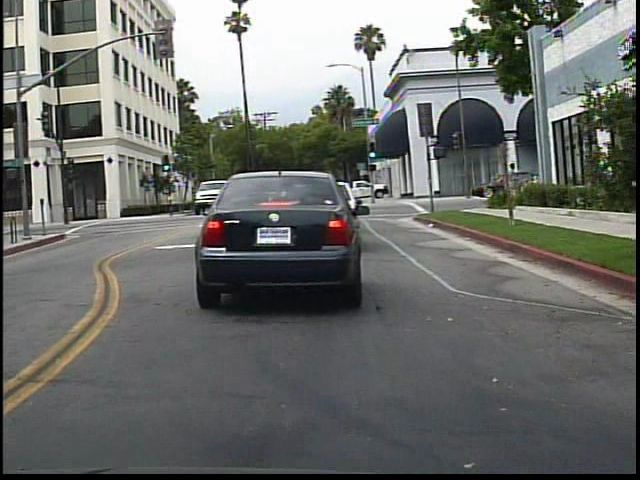person: (494, 159, 524, 207)
